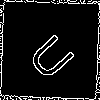U: (25, 25, 84, 84)
